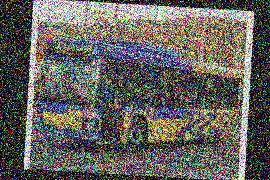bus: (37, 33, 243, 158)
